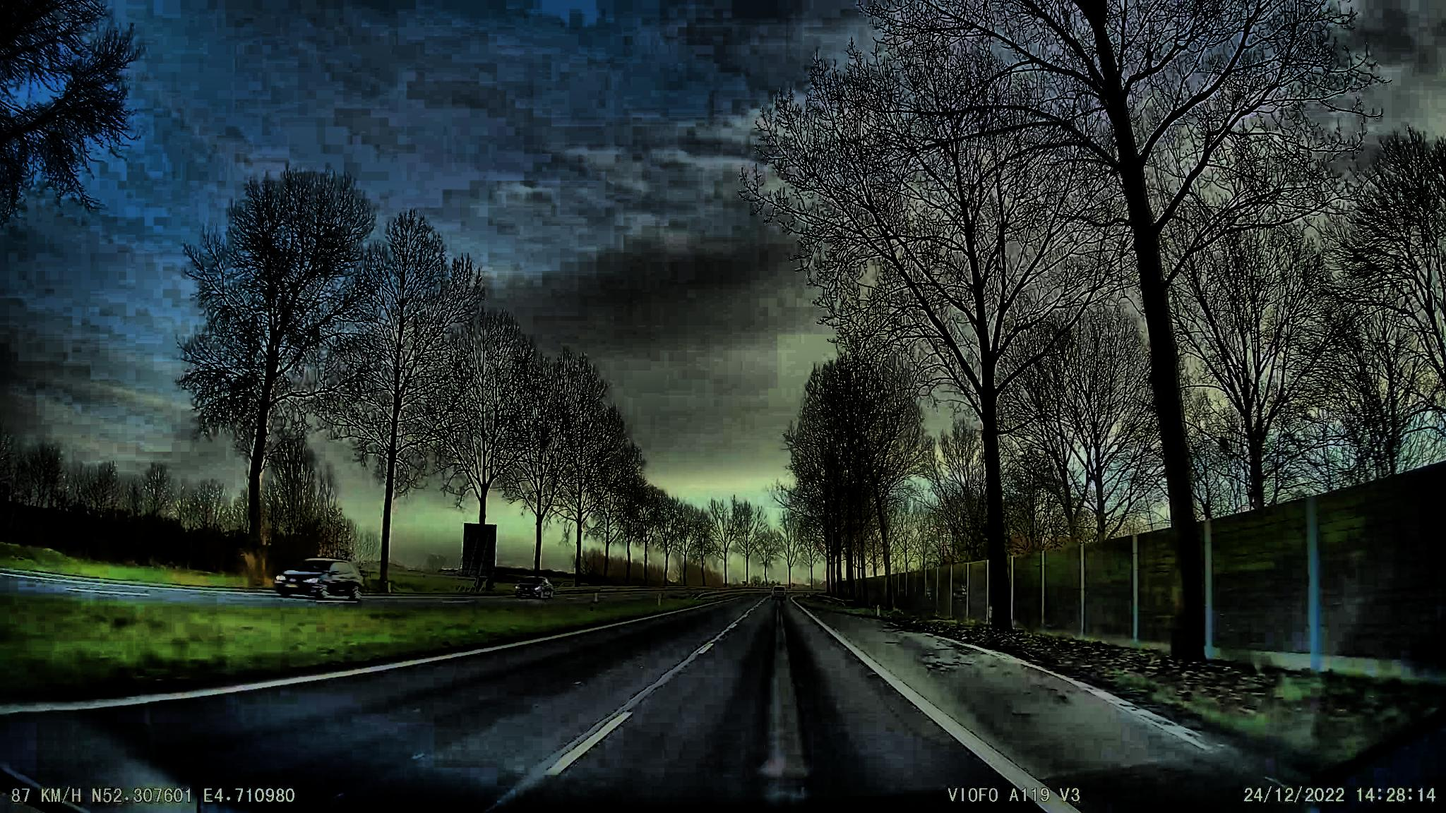Roads: (0, 601, 1258, 813)
